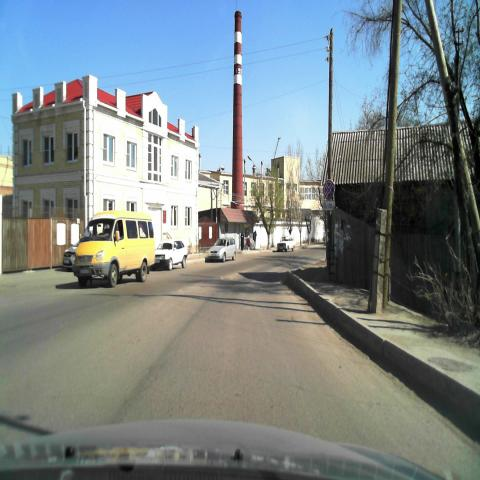3_27: (323, 178, 335, 200)
